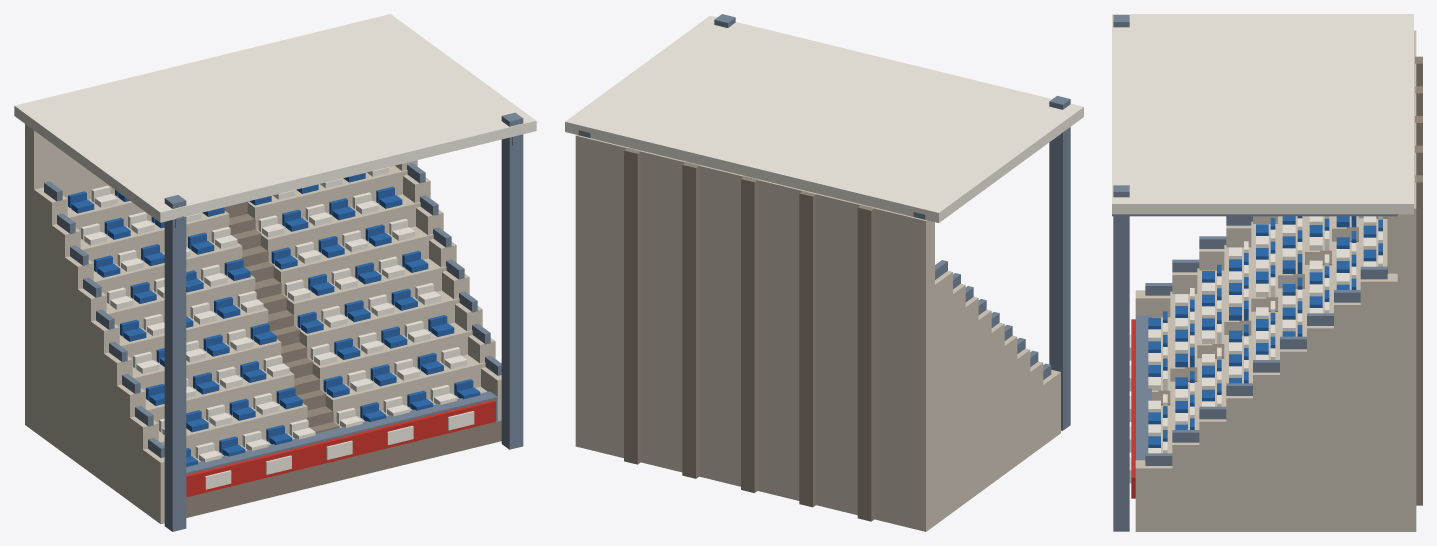
File: grandStandAwning.glb
3 views of the same model, side by side, from view 1: azimuth 30°, elevation 25°; view 2: azimuth 150°, elevation 25°; view 3: azimuth 270°, elevation 25° (orthographic). The views are drawn at different scales.
Visible parts, largest first — view 1: grandStandAwning_white, grandStandAwning_concrete, grandStandAwning_steel, grandStandAwning_blue, grandStandAwning_concreteDark, grandStandAwning_red; view 2: grandStandAwning_concrete, grandStandAwning_white, grandStandAwning_concreteDark, grandStandAwning_steel; view 3: grandStandAwning_white, grandStandAwning_concrete, grandStandAwning_steel, grandStandAwning_blue, grandStandAwning_concreteDark, grandStandAwning_red.
Part boxes in pixels (box(x1,y1,x2,y2)): grandStandAwning_white: box(14, 14, 536, 489); grandStandAwning_concrete: box(25, 124, 501, 524); grandStandAwning_steel: box(44, 112, 523, 531); grandStandAwning_blue: box(68, 173, 480, 466); grandStandAwning_concreteDark: box(186, 201, 501, 517); grandStandAwning_red: box(186, 400, 495, 497); grandStandAwning_concrete: box(575, 135, 1060, 531); grandStandAwning_white: box(565, 15, 1083, 222); grandStandAwning_concreteDark: box(624, 148, 874, 521); grandStandAwning_steel: box(578, 14, 1070, 430); grandStandAwning_white: box(1112, 14, 1413, 483); grandStandAwning_concrete: box(1135, 30, 1416, 531); grandStandAwning_steel: box(1112, 15, 1397, 531); grandStandAwning_blue: box(1148, 216, 1382, 447); grandStandAwning_concreteDark: box(1158, 56, 1422, 505); grandStandAwning_red: box(1131, 319, 1135, 498).
Size of the model in its own units: 19.2 by 16 by 13.28.
